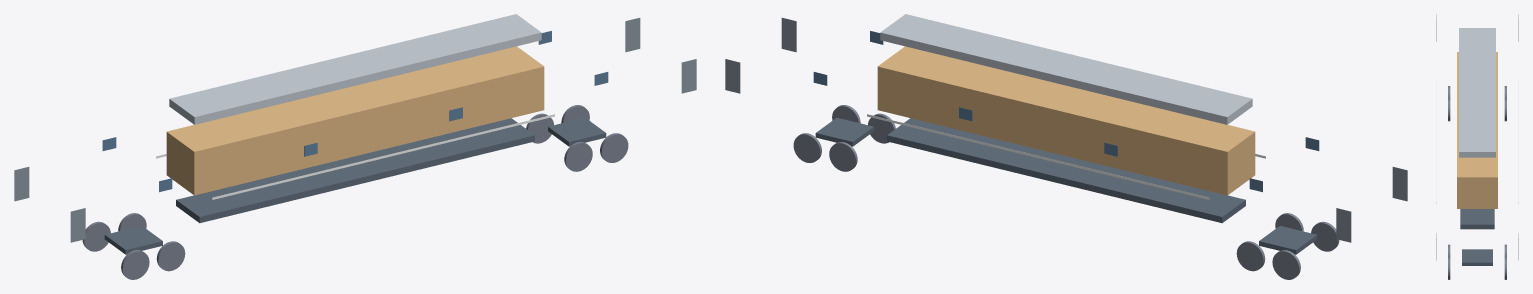
The model's file is LHB_PantryCar.glb.
3 renders of one model, left to right at view 1: azimuth 30°, elevation 25°; view 2: azimuth 150°, elevation 25°; view 3: azimuth 270°, elevation 25°, orthographic. The views are drawn at different scales.
Parts seen in each view (by area): view 1: LHB_PantryCar; view 2: LHB_PantryCar; view 3: LHB_PantryCar.
Boxes of the visible parts, x1,y1,x2,y2 form: LHB_PantryCar: [14, 14, 696, 279]; LHB_PantryCar: [725, 14, 1407, 279]; LHB_PantryCar: [1436, 14, 1518, 279].
Size of the model in its own units: 21.04 by 4.53 by 3.29.
